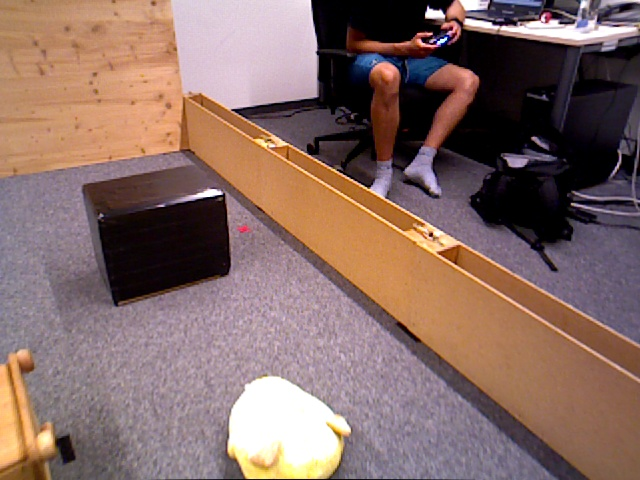grasp: (226, 375, 349, 480)
push: (81, 178, 229, 299)
